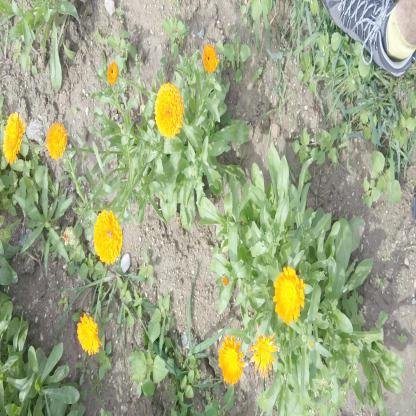marigold: (272, 268, 306, 324), (94, 209, 122, 263), (155, 84, 182, 136), (217, 335, 245, 385), (3, 114, 25, 162), (77, 314, 101, 354), (252, 337, 277, 374), (47, 125, 67, 159), (203, 46, 219, 72)
